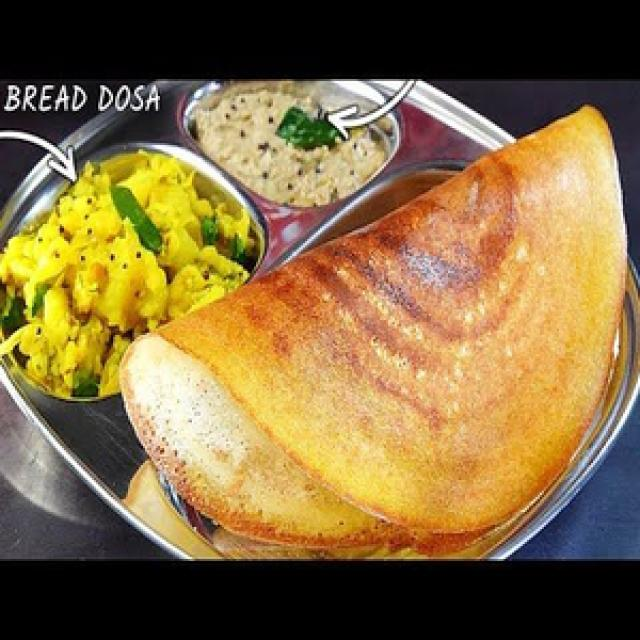dosa: (115, 105, 638, 558)
